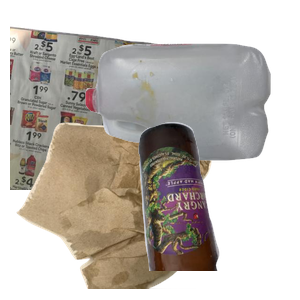glass: (136, 120, 300, 300)
paper: (10, 21, 222, 201)
plastic: (83, 41, 300, 194)
trash: (14, 120, 222, 300)
